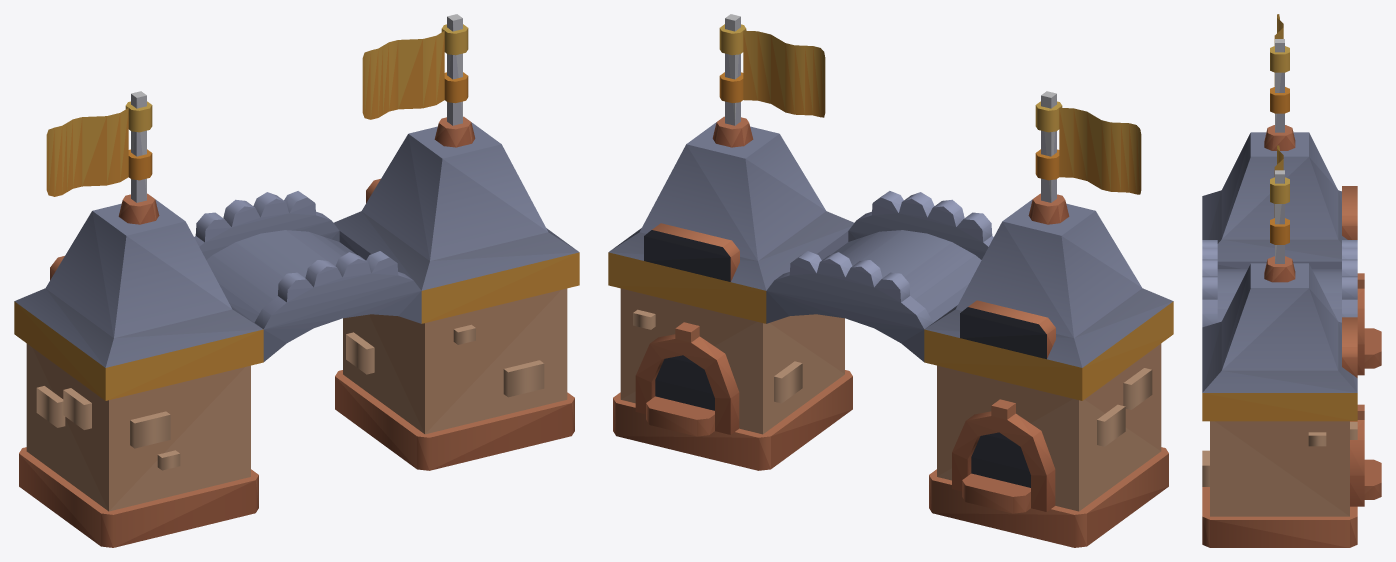
The model's file is coaster_park_entrance.glb.
3 renders of one model, left to right at view 1: azimuth 30°, elevation 25°; view 2: azimuth 150°, elevation 25°; view 3: azimuth 270°, elevation 25°, orthographic. The views are drawn at different scales.
Parts seen in each view (by area): view 1: coaster_park_entrance; view 2: coaster_park_entrance; view 3: coaster_park_entrance.
Boxes of the visible parts, x1,y1,x2,y2 form: coaster_park_entrance: (14, 14, 579, 547); coaster_park_entrance: (608, 14, 1173, 547); coaster_park_entrance: (1202, 14, 1381, 547).
Bounding box in the file's own units: 3.09 × 2.43 × 1.16.
